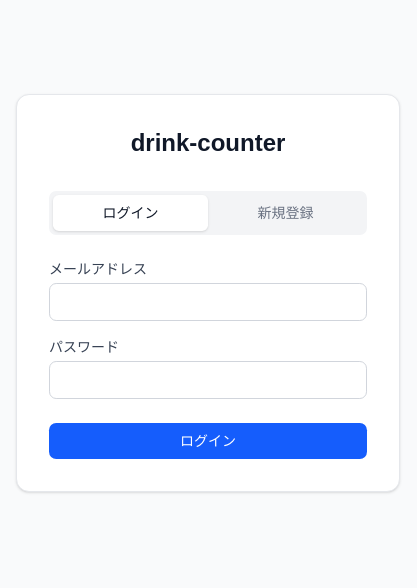
Auth › 「新規登録」タブをクリックするとサインアップフォームに切り替わる
The width and height of the screenshot is (417, 588).
What coordinates should you click on to do the following:
click the button "新規登録"
I would click on:
 (286, 213)
Its box is x1=208 y1=195 x2=363 y2=231.
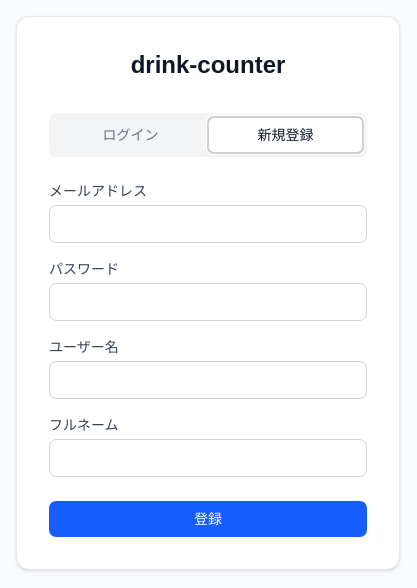
expect the field named "username" below "ユーザー名" is shown: met, box x1=49 y1=361 x2=367 y2=399
expect the field named "fullName" below "フルネーム" is shown: met, box x1=49 y1=439 x2=367 y2=477
